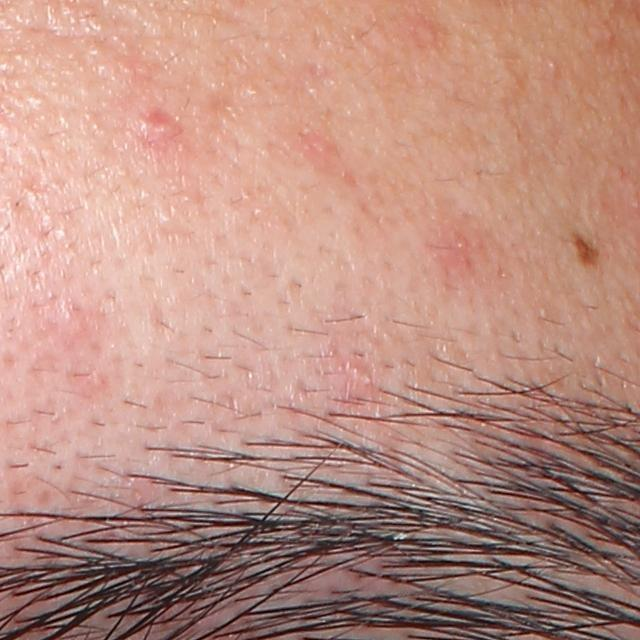nevus: (573, 231, 609, 273)
papule: (135, 105, 186, 143)
